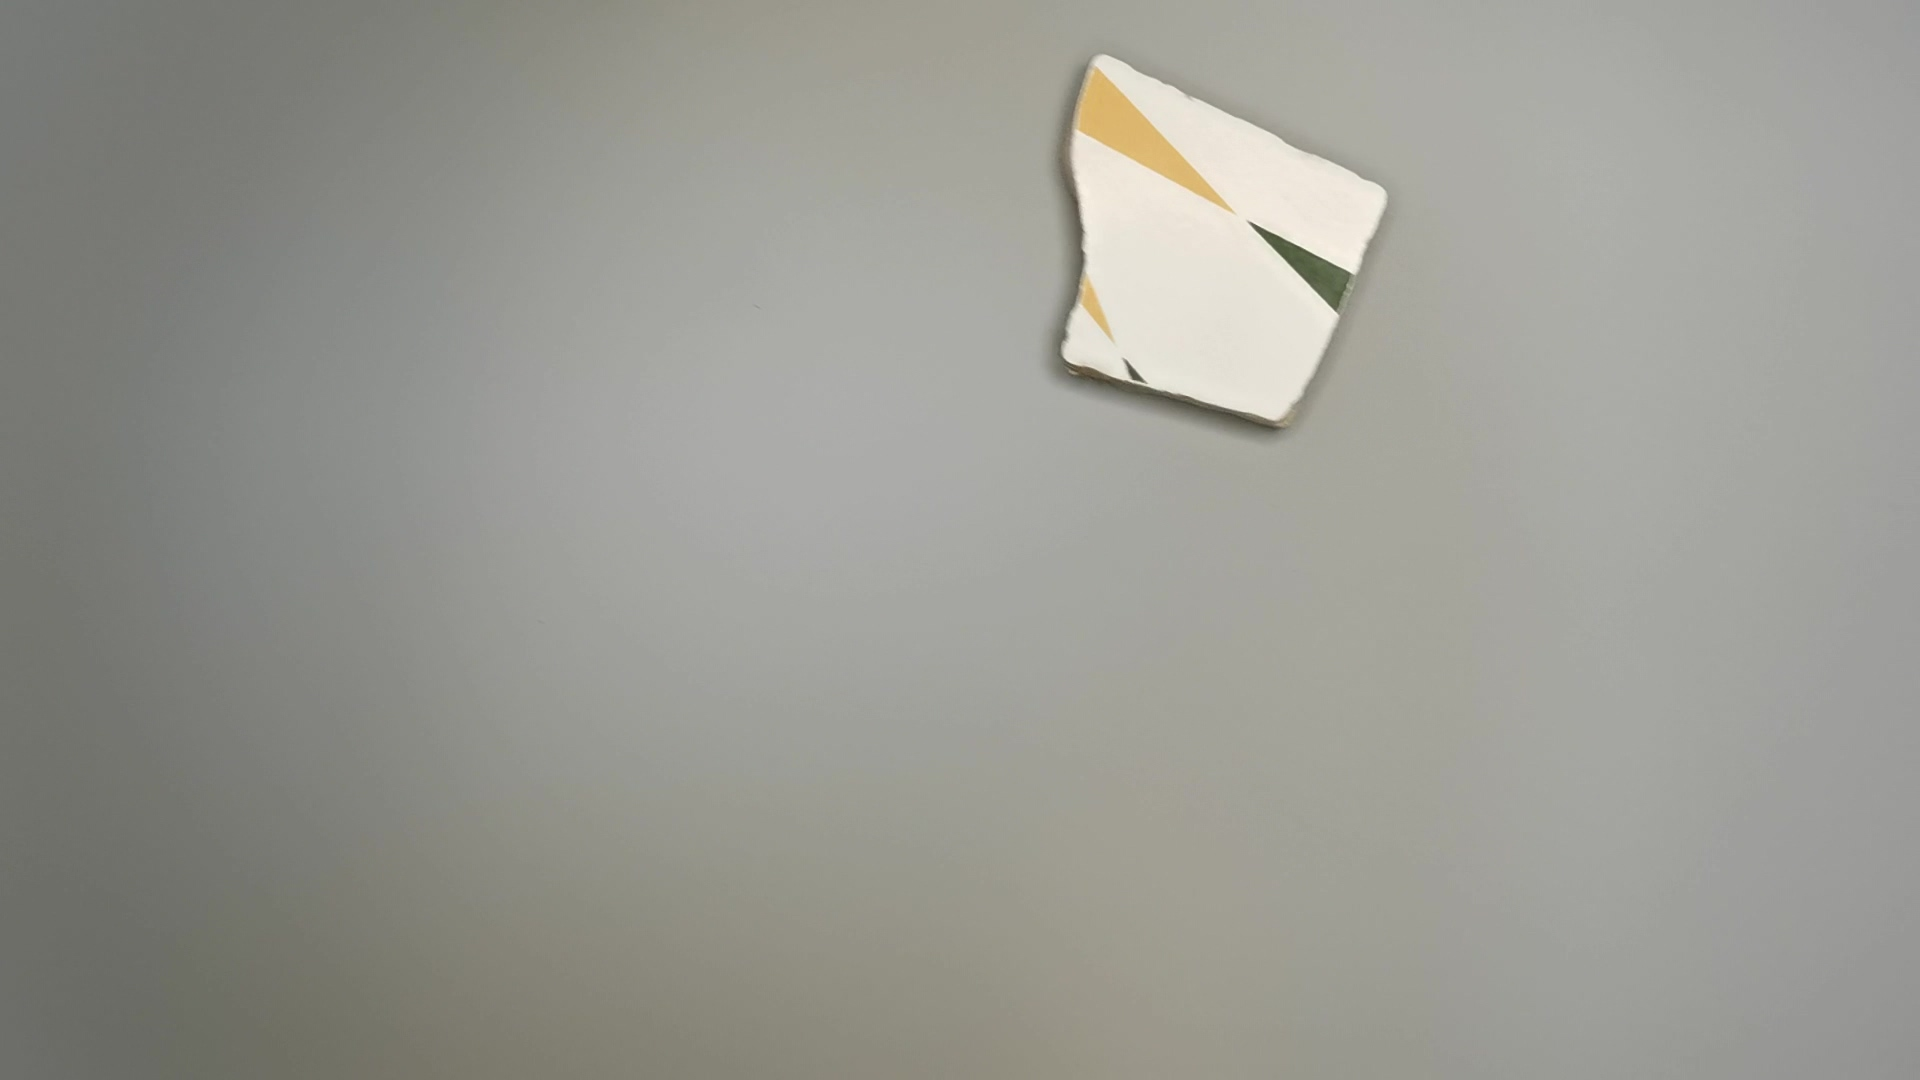ceramic: (1052, 47, 1403, 438)
